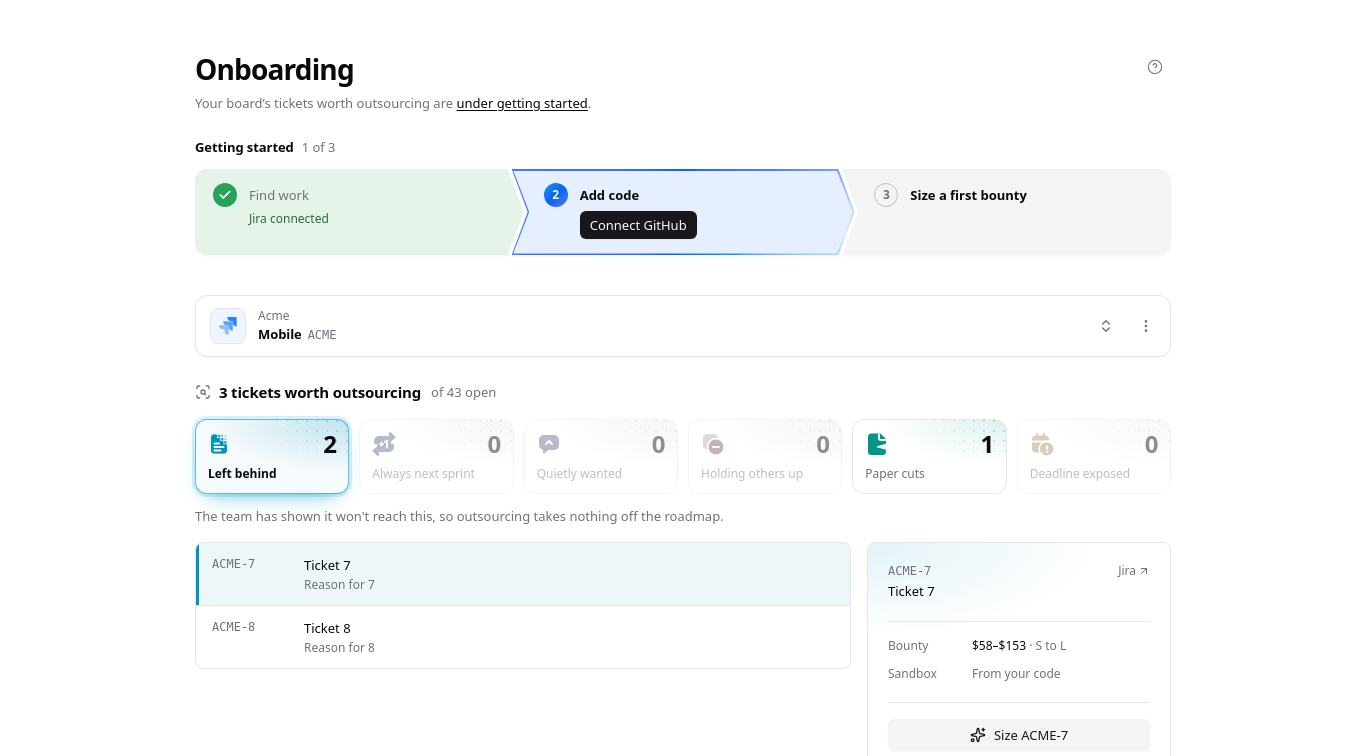
Test case: a category shows its own tickets, and the teaser follows the one chosen
Click the button with aria-label "Paper cuts, 1 ticket".
click(929, 456)  # box top-left (852, 419), bottom-right (1007, 494)
(page scrolled)
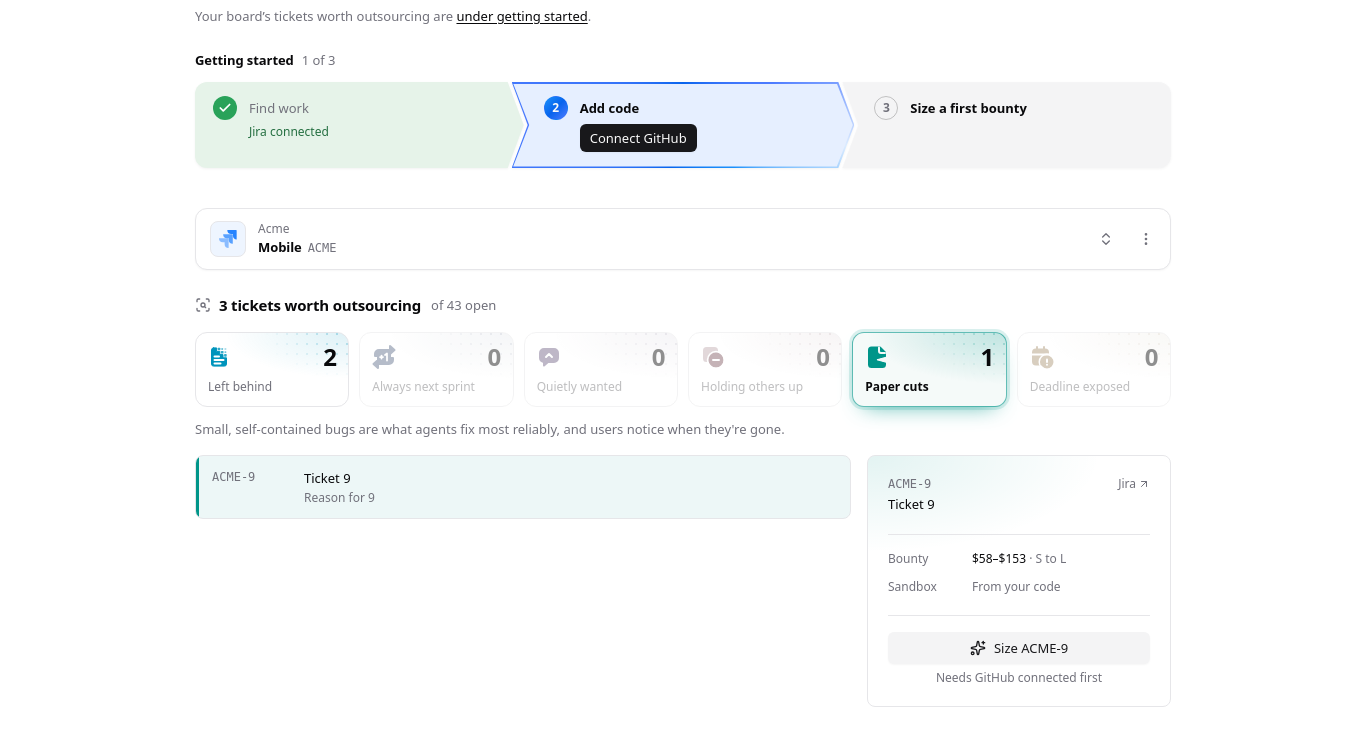
Check: the 1st text "Ticket 9" is shown, box top-left (304, 469), bottom-right (351, 487)
Check: the text with test id "scan-why" shows "Small, self-contained bugs", box top-left (195, 420), bottom-right (785, 438)
Check: the element with test id "teaser-bounty" shows "ACME-9", box top-left (888, 477), bottom-right (931, 491)
